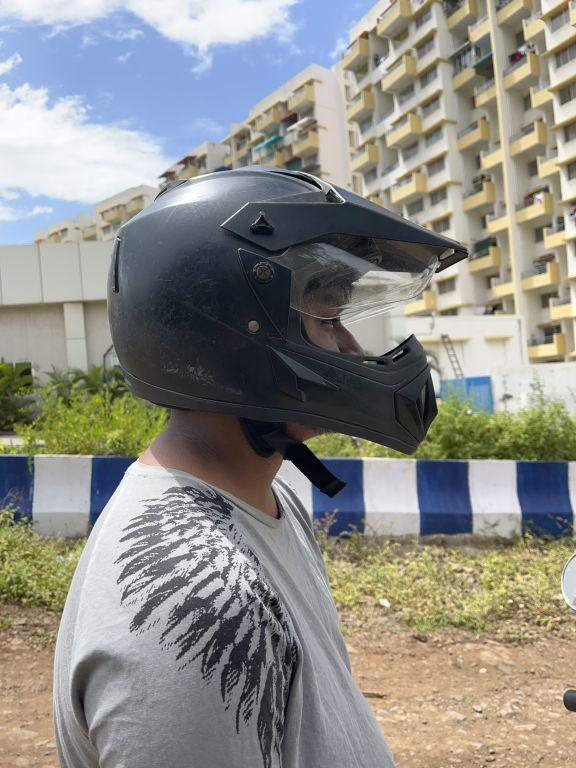helmet: (89, 144, 480, 463)
